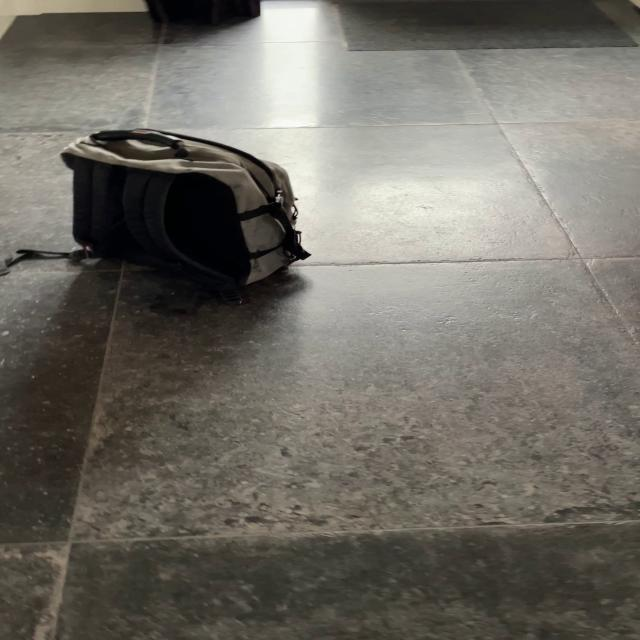backpack: (56, 121, 317, 307)
